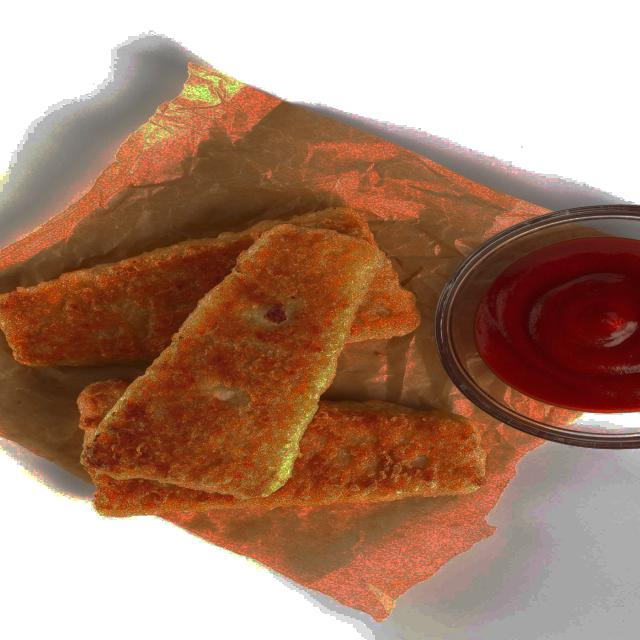ketchup: (474, 235, 640, 419)
